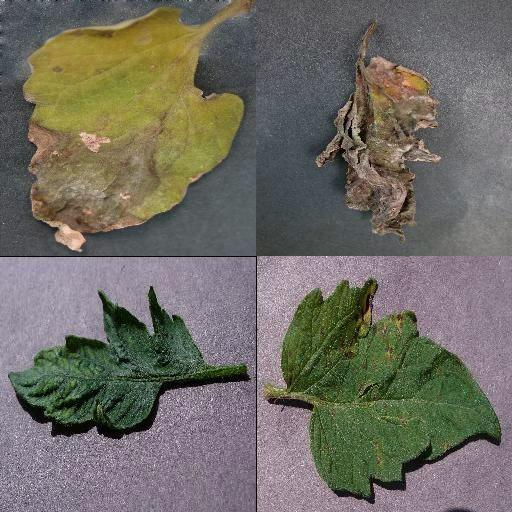Late Blight: (17, 3, 245, 255), (314, 56, 440, 242)
Mosaic Virus: (6, 285, 210, 435)
Septoria: (282, 280, 502, 498)
